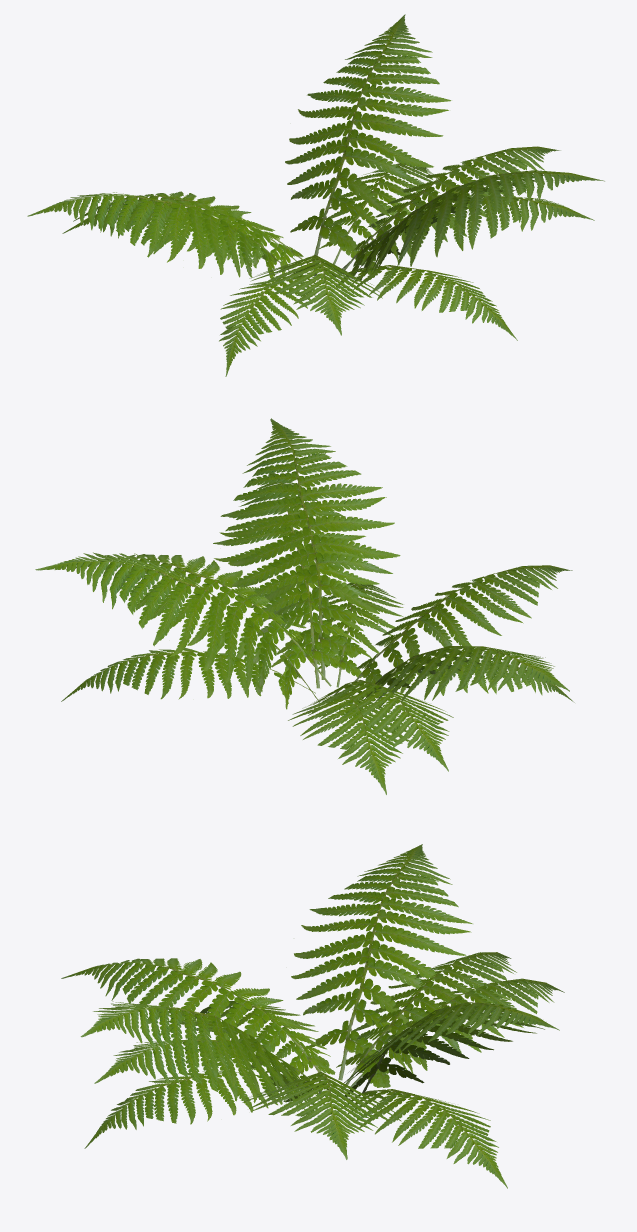
The model's file is DM.Bush.Fern.02.fbx.
3 renders of one model, top to bottom at view 1: azimuth 30°, elevation 25°; view 2: azimuth 150°, elevation 25°; view 3: azimuth 270°, elevation 25°, orthographic. The views are drawn at different scales.
Parts seen in each view (by area): view 1: Tree_0; view 2: Tree_0; view 3: Tree_0.
Boxes of the visible parts, x1,y1,x2,y2 form: Tree_0: (27,14,604,376); Tree_0: (35,418,574,794); Tree_0: (61,844,564,1188).
Bounding box in the file's own units: 144 × 46.54 × 129.
1 material, 1 textured.
